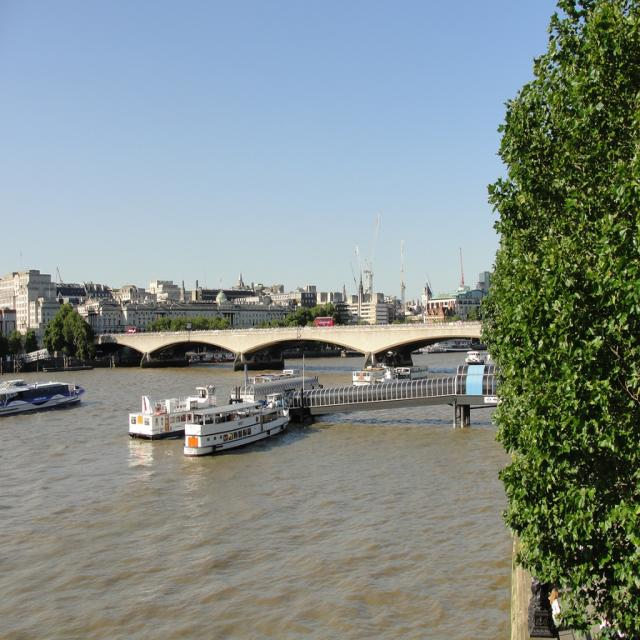Boat: (173, 384, 293, 454), (127, 381, 224, 442), (0, 377, 84, 421), (352, 362, 385, 383), (394, 364, 431, 380), (465, 349, 484, 362)
